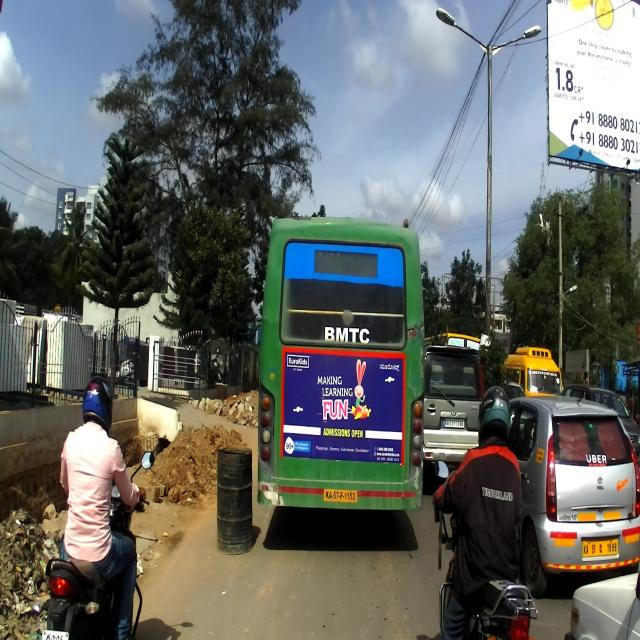Car_Mahindra: (424, 341, 486, 485)
Car_Maruti-Suzuki: (564, 568, 639, 639)
Car_TATA: (502, 398, 639, 596)
bus: (257, 211, 425, 511)
motorcycle_Hero: (434, 456, 538, 639)
motorcycle_Honda: (30, 449, 156, 639)
